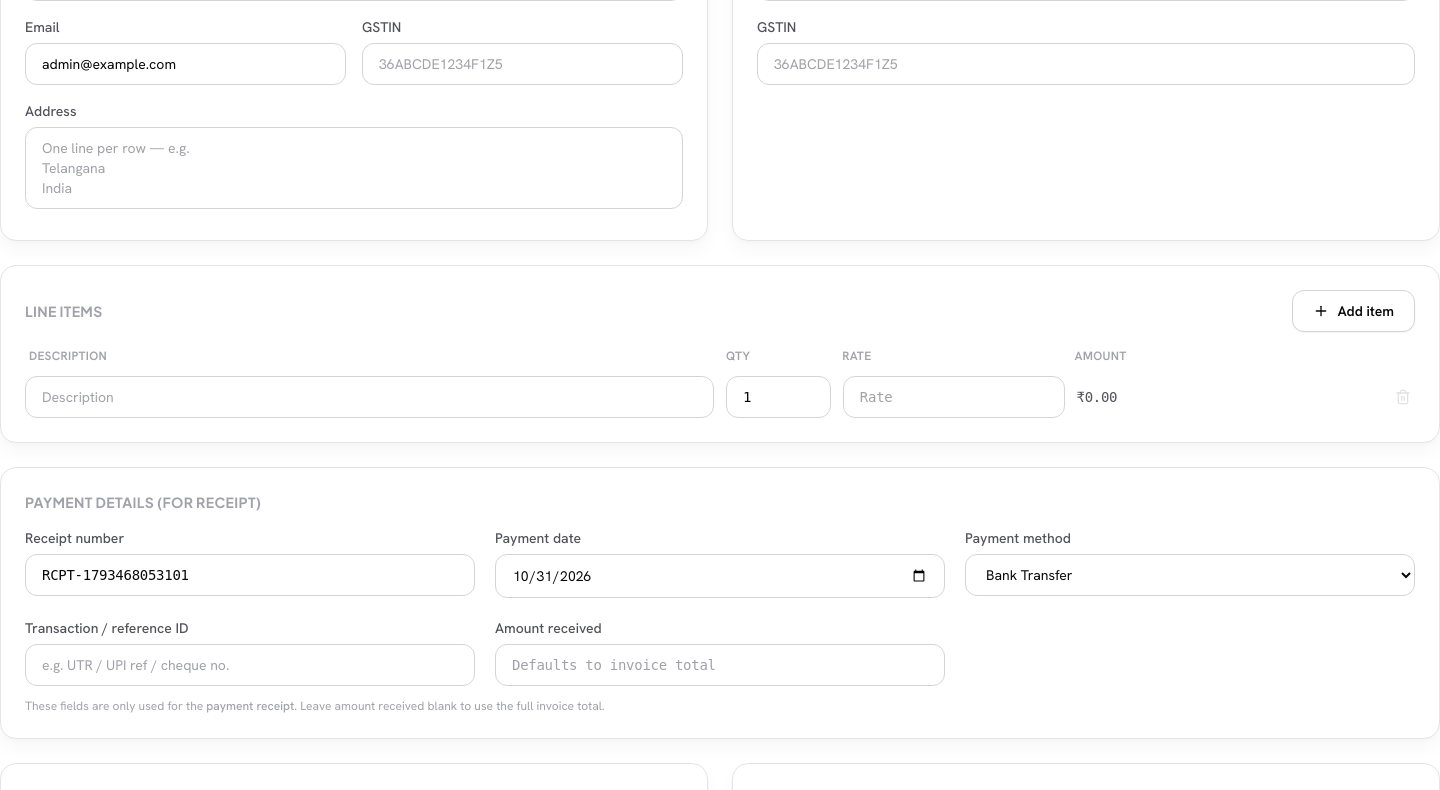
InvoicesPage discounts › applies a labelled fixed discount to the live summary
(page scrolled)
Expected: the field showing "admin@example.com" below "Email" is shown, [25,43,346,85]
In the field with placeholder "Description": [370, 397] box [25,376,714,418], type "Consulting"
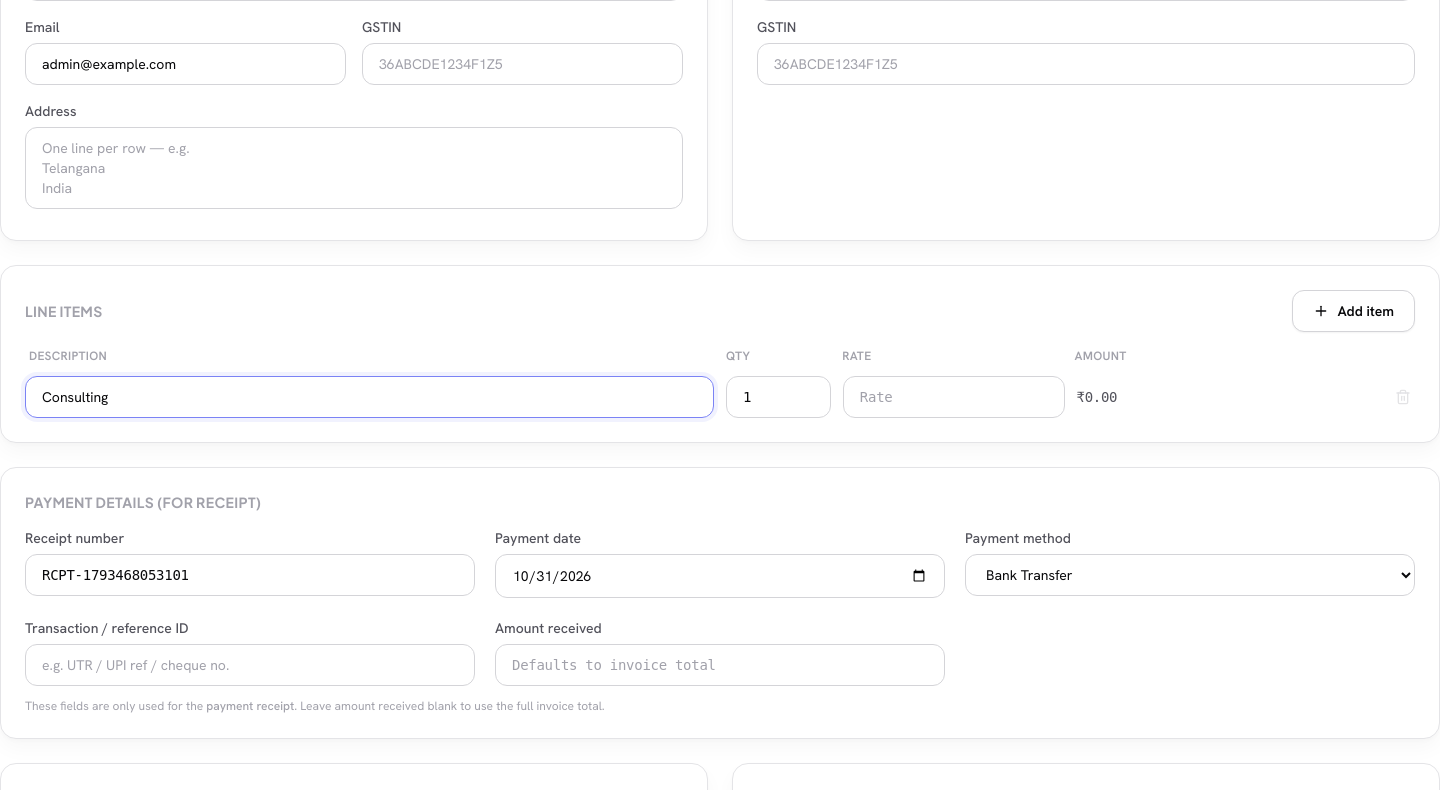
In the number field with placeholder "Rate": [954, 397] box [843,376,1064,418], type "250"
(page scrolled)
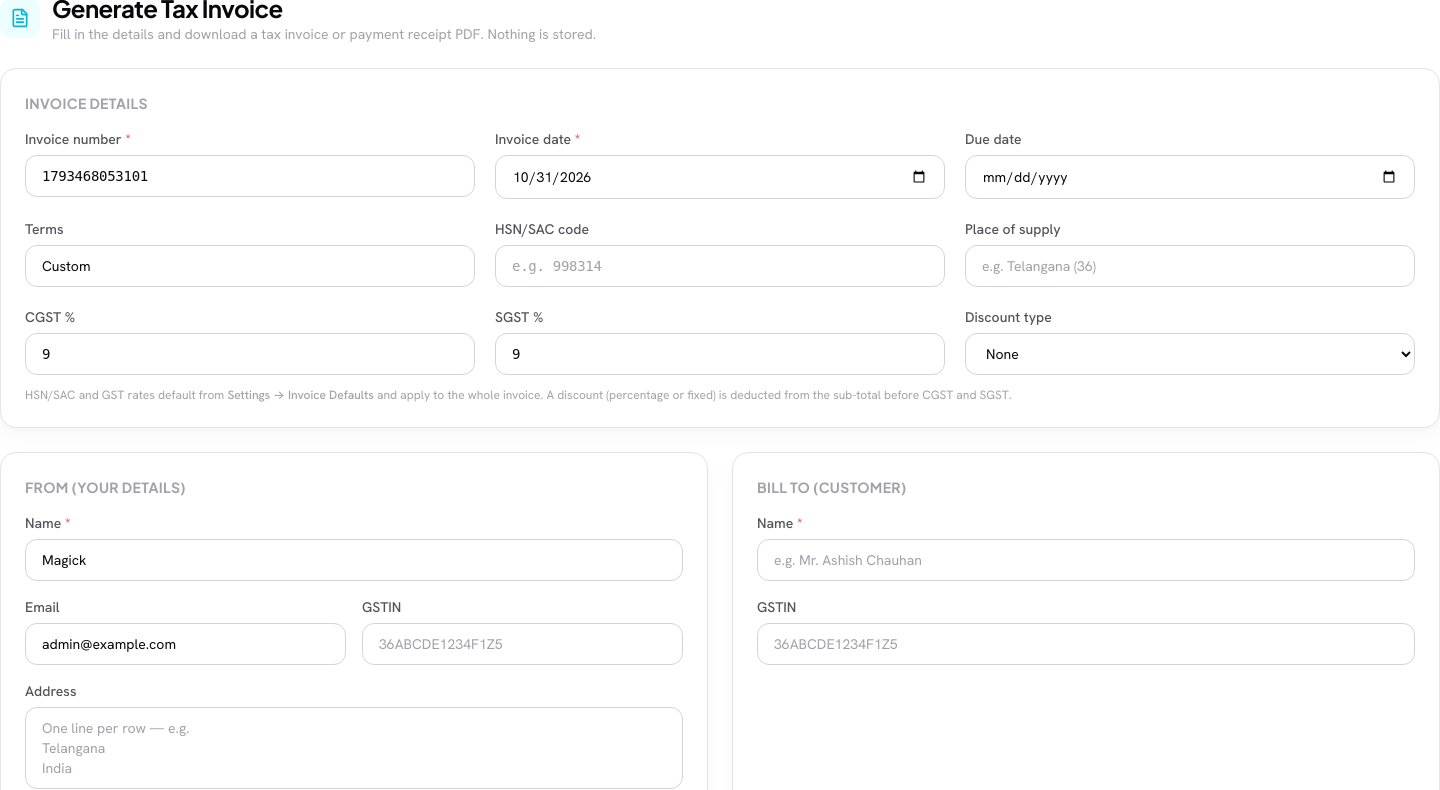
Select "Fixed amount (₹)" in the dropdown named "Discount type": [1190, 354] box [965,333,1415,375]
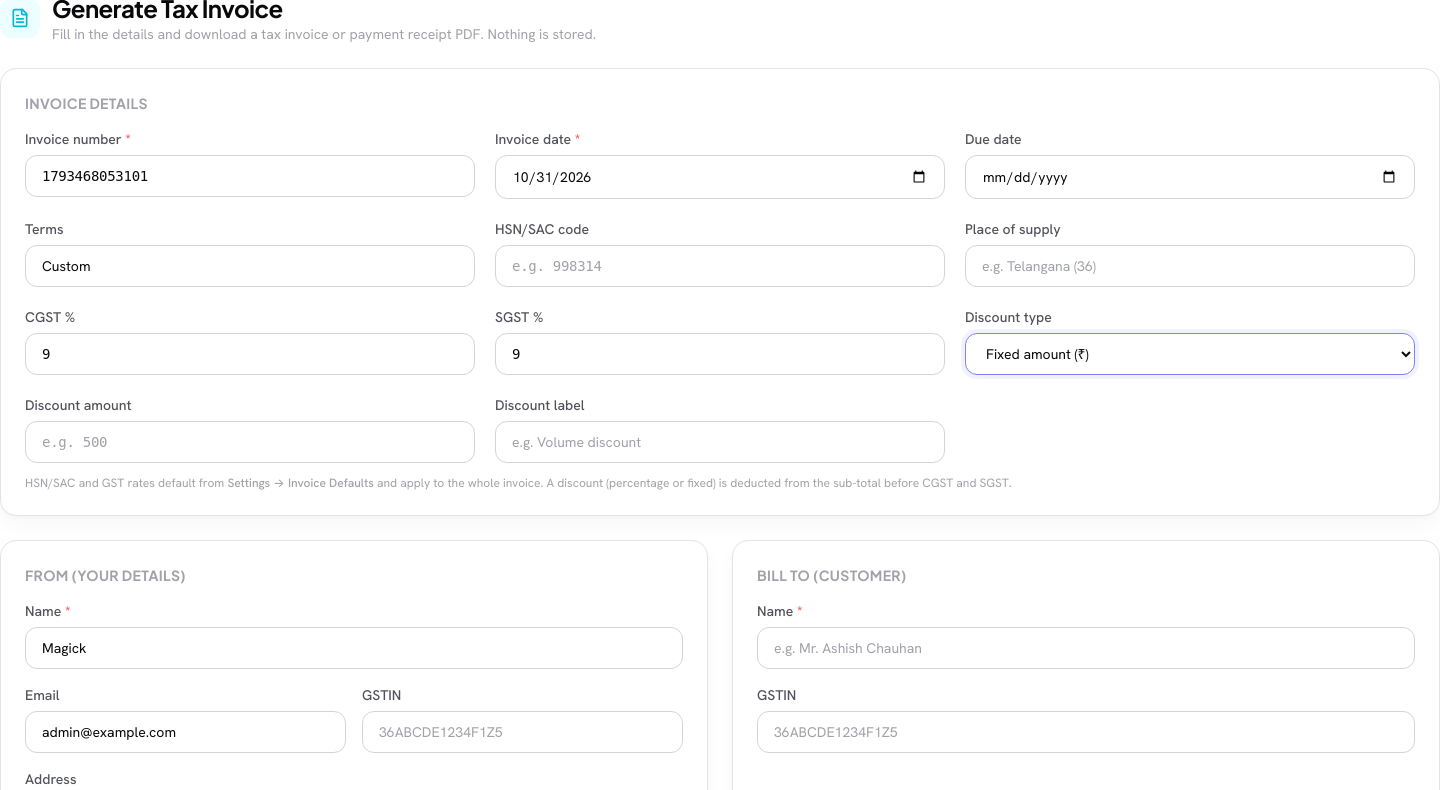
In the number field named "Discount value": [250, 442] box [25,421,475,463], type "50"
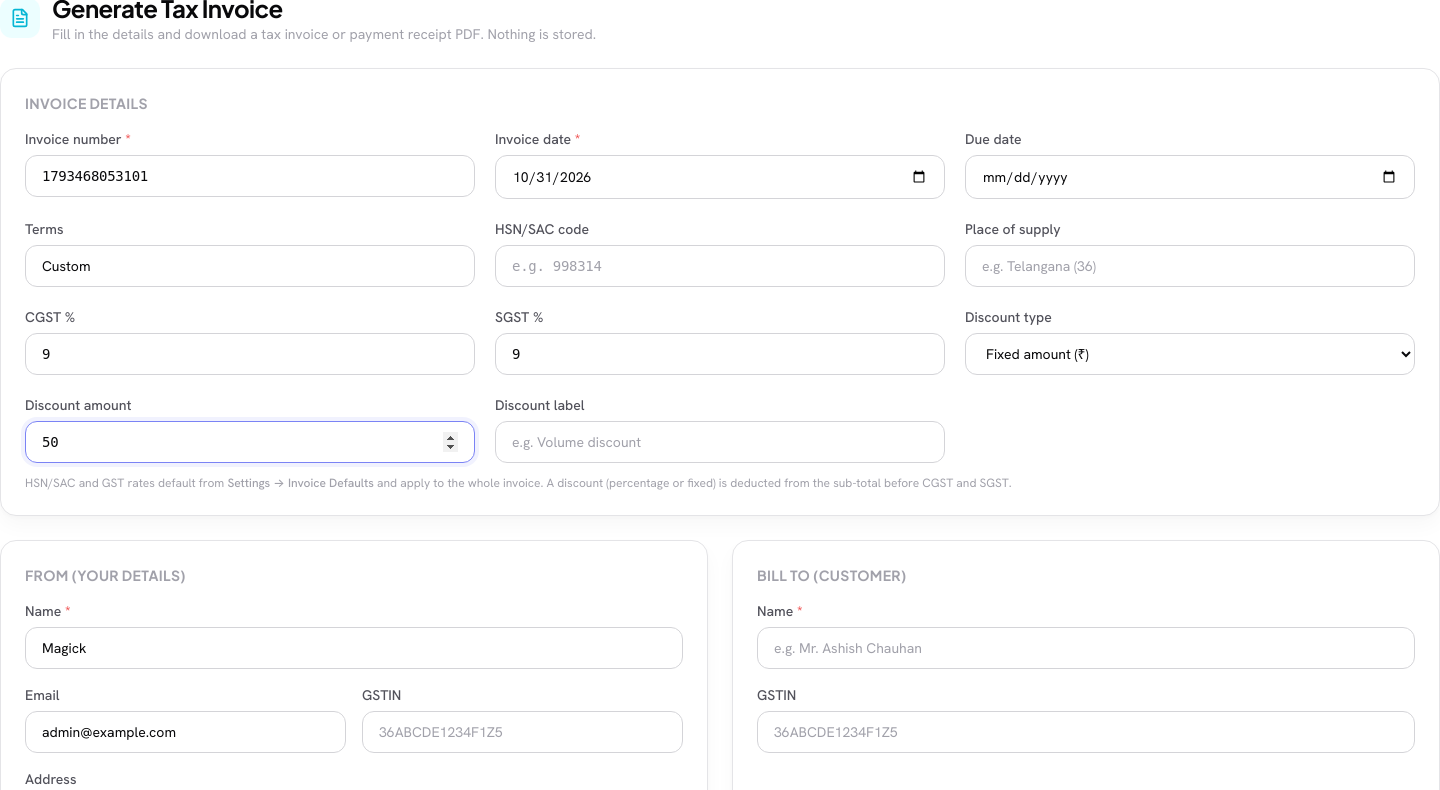
In the field with placeholder "e.g. Volume discount": [720, 442] box [495,421,945,463], type "Loyalty"
(page scrolled)
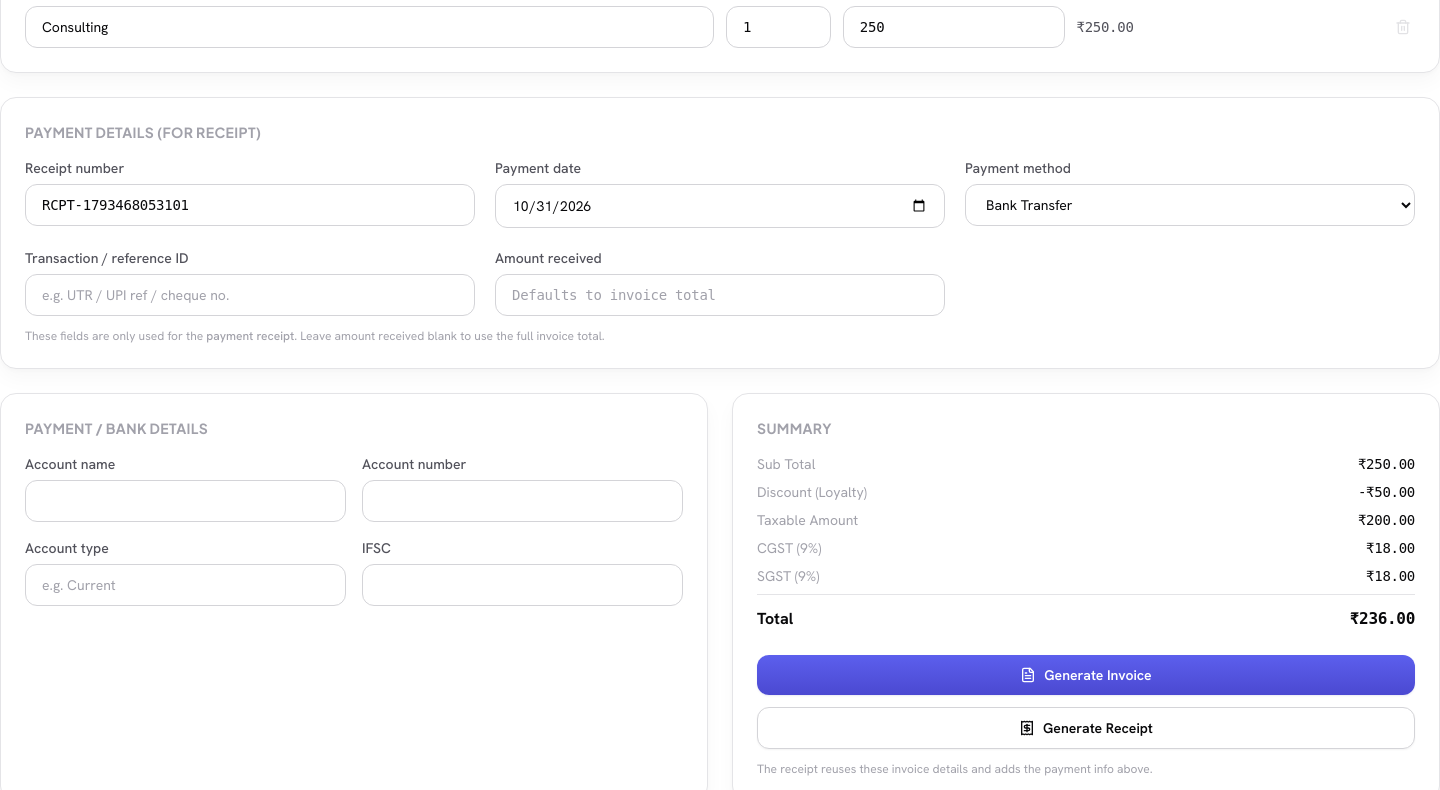
Expected: the text "-₹50.00" is shown, [1358,482,1415,502]
Expected: the text "₹200.00" is shown, [1358,510,1415,530]
Expected: the text "Discount (Loyalty)" is shown, [757,482,867,502]
